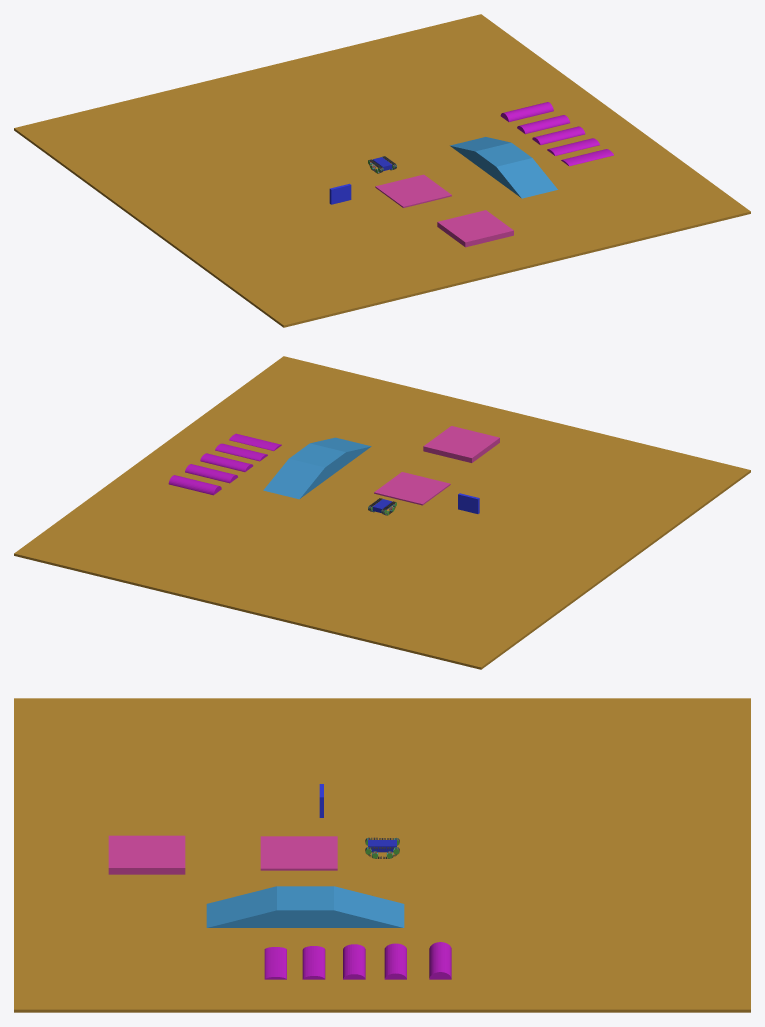
File: physics_tank.glb
3 renders of one model, top to bottom at view 1: azimuth 30°, elevation 25°; view 2: azimuth 150°, elevation 25°; view 3: azimuth 270°, elevation 25°, orthographic. The views are drawn at different scales.
Visible parts, largest first — view 1: ground, Cube.003, Cube.004, Cube.001, Cylinder.007; view 2: ground, Cube.003, Cube.004, Cube.001, Cylinder.007; view 3: ground, Cube.003, Cube.004, Cube.001, Cylinder.007, Cylinder, Cylinder.004, Cylinder.005, Cylinder.006.
Boxes of the visible parts, box(x1,y1,x2,y2) form: ground: box(14, 14, 750, 327); Cube.003: box(450, 137, 557, 198); Cube.004: box(437, 210, 513, 247); Cube.001: box(375, 174, 451, 207); Cylinder.007: box(500, 102, 553, 121); ground: box(14, 356, 750, 669); Cube.003: box(263, 437, 371, 499); Cube.004: box(423, 426, 499, 462); Cube.001: box(374, 472, 450, 505); Cylinder.007: box(168, 475, 221, 495); ground: box(14, 698, 750, 1012); Cube.003: box(206, 886, 404, 927); Cube.004: box(108, 835, 185, 874); Cube.001: box(260, 836, 337, 870); Cylinder.007: box(429, 942, 451, 979); Cylinder: box(384, 943, 406, 979); Cylinder.004: box(343, 944, 365, 979); Cylinder.005: box(302, 946, 325, 979); Cylinder.006: box(264, 947, 286, 979).
Bounding box in the file's own units: 65.36 × 2.31 × 65.36.
